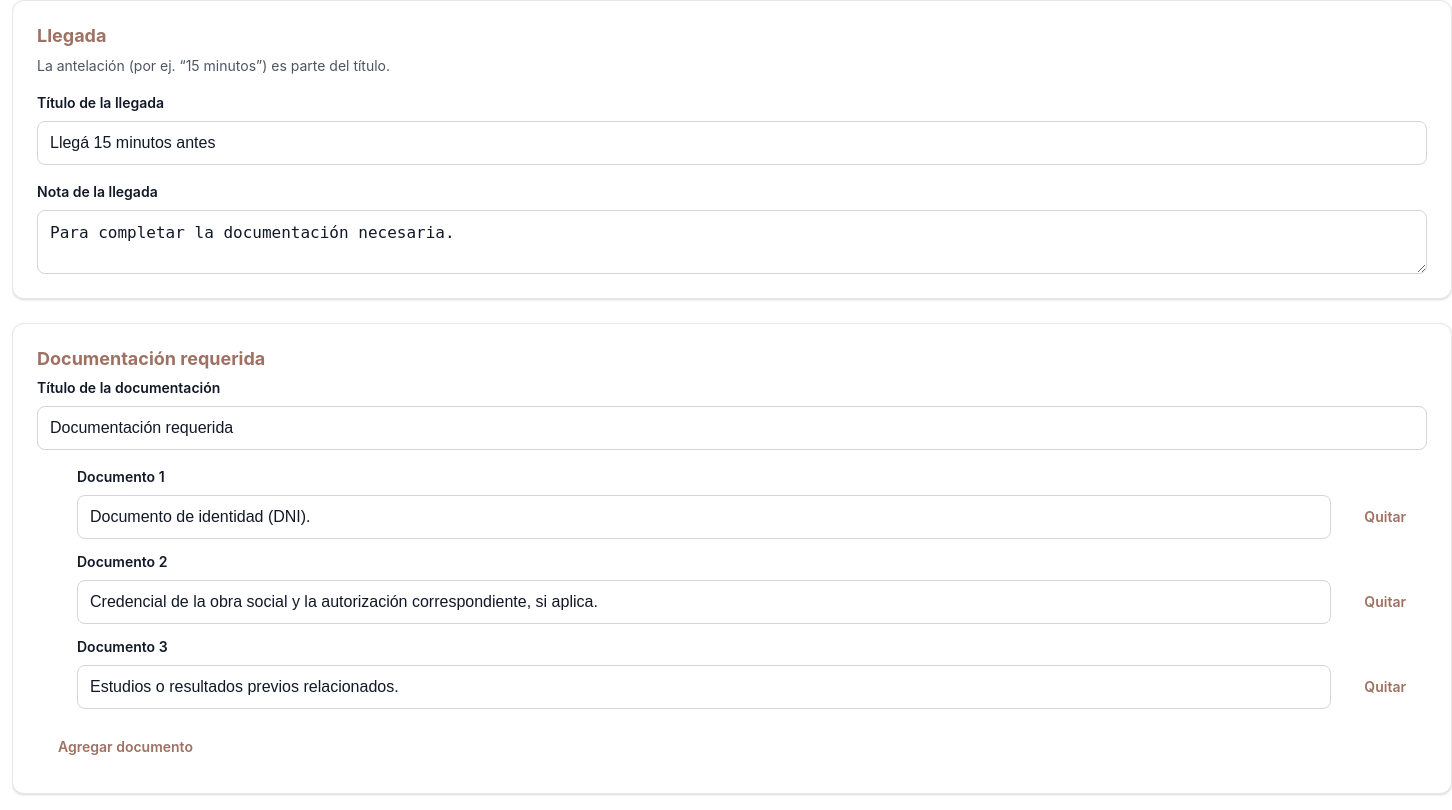
ClinicInfoEditor › adds a documentation item and includes it on save
Click the button "Agregar documento" at (125, 747), box [37,725,214,769]
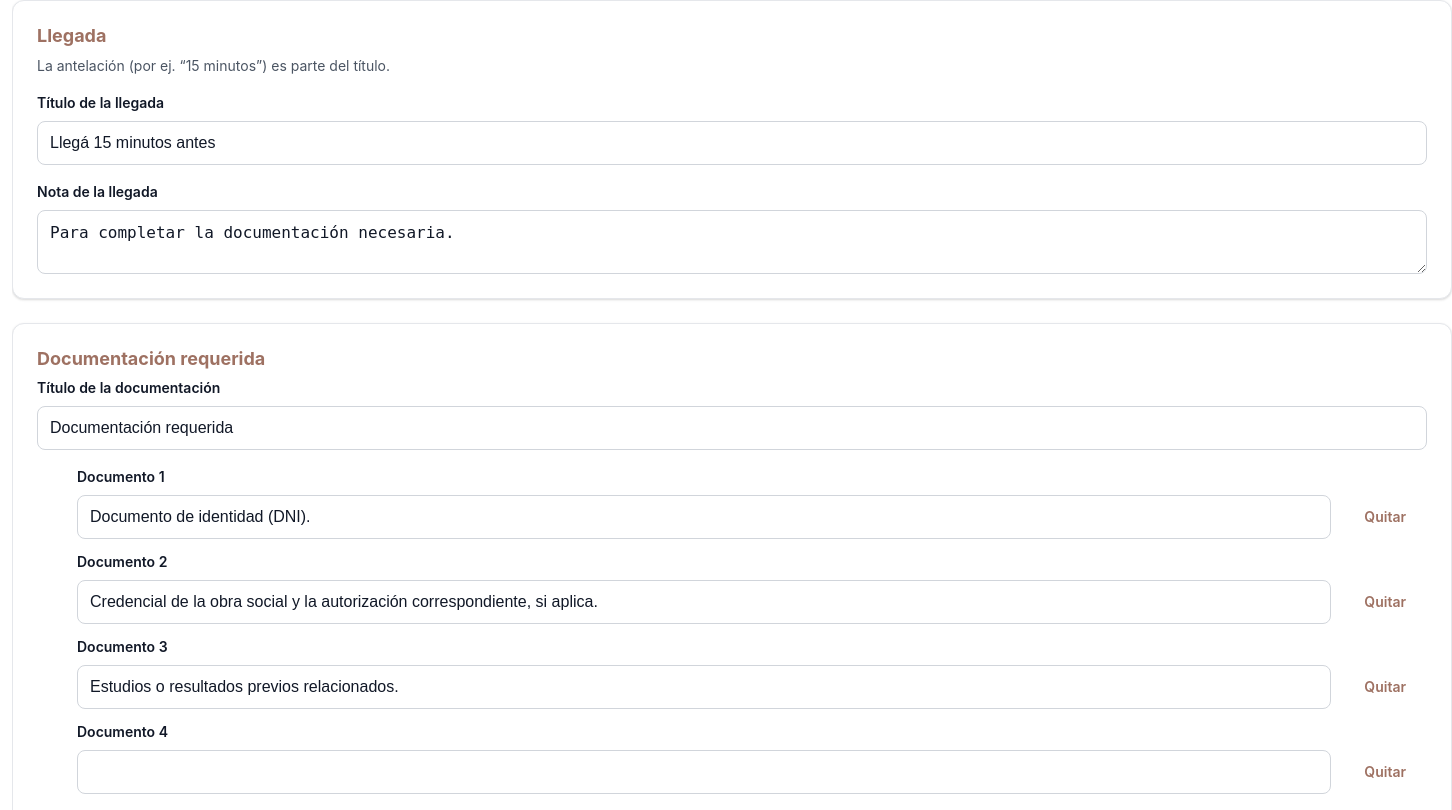
Type "Carnet de vacunación" into the field labelled "Documento 4" at (704, 772), box [77,750,1331,794]
(page scrolled)
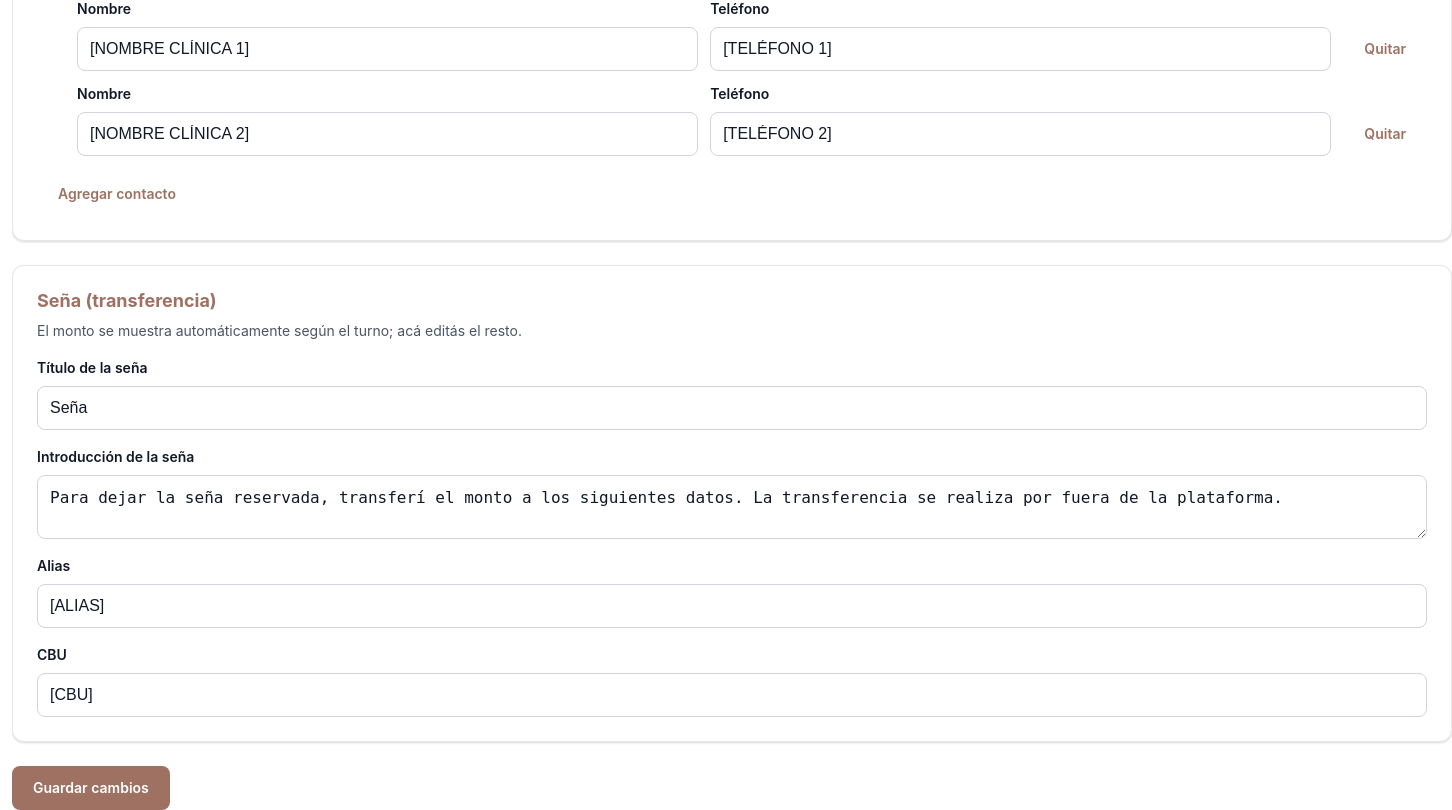
Click the button "Guardar cambios" at (91, 788), box [12,766,170,809]
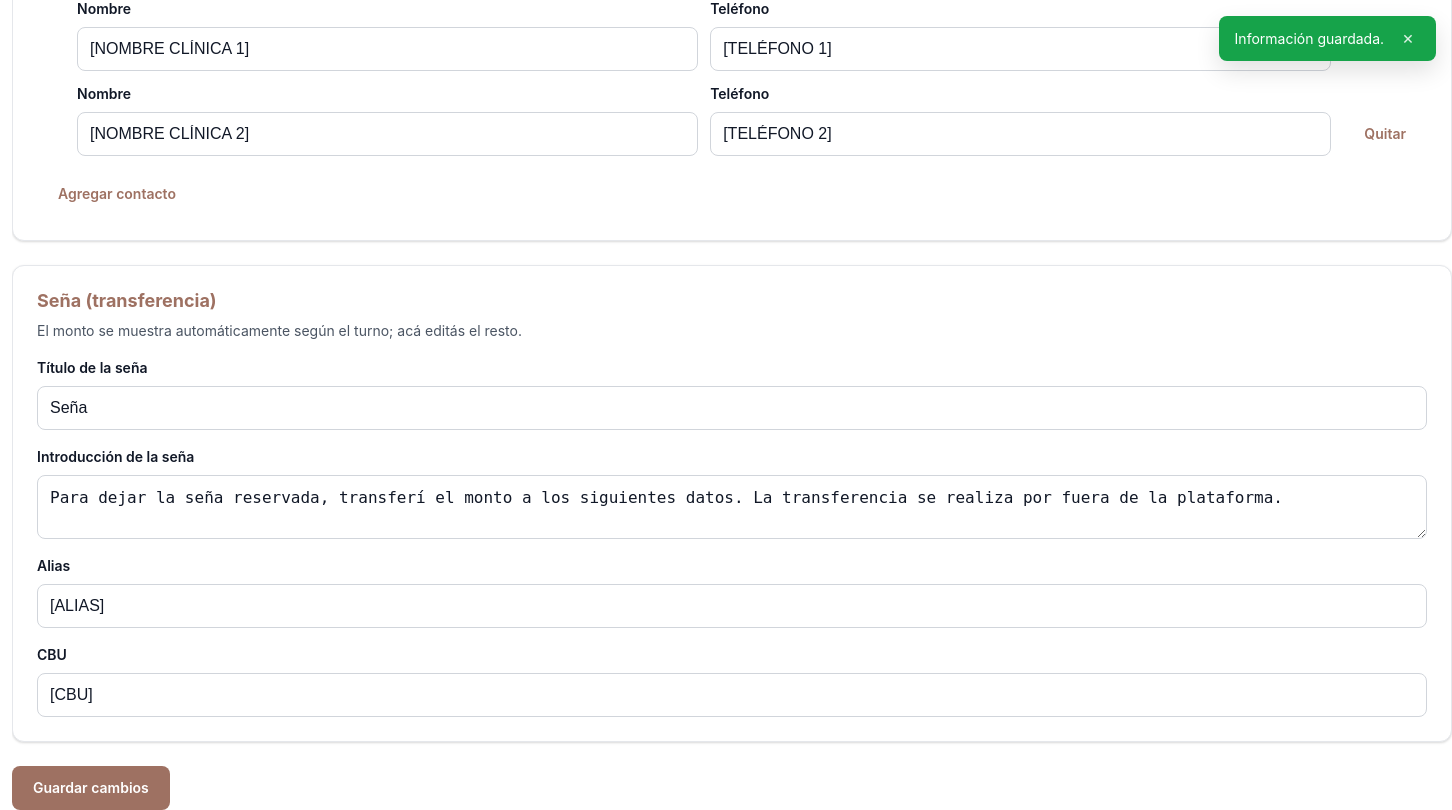
Expected: the message "Información guardada. ×" is shown, [1219,16,1436,61]
